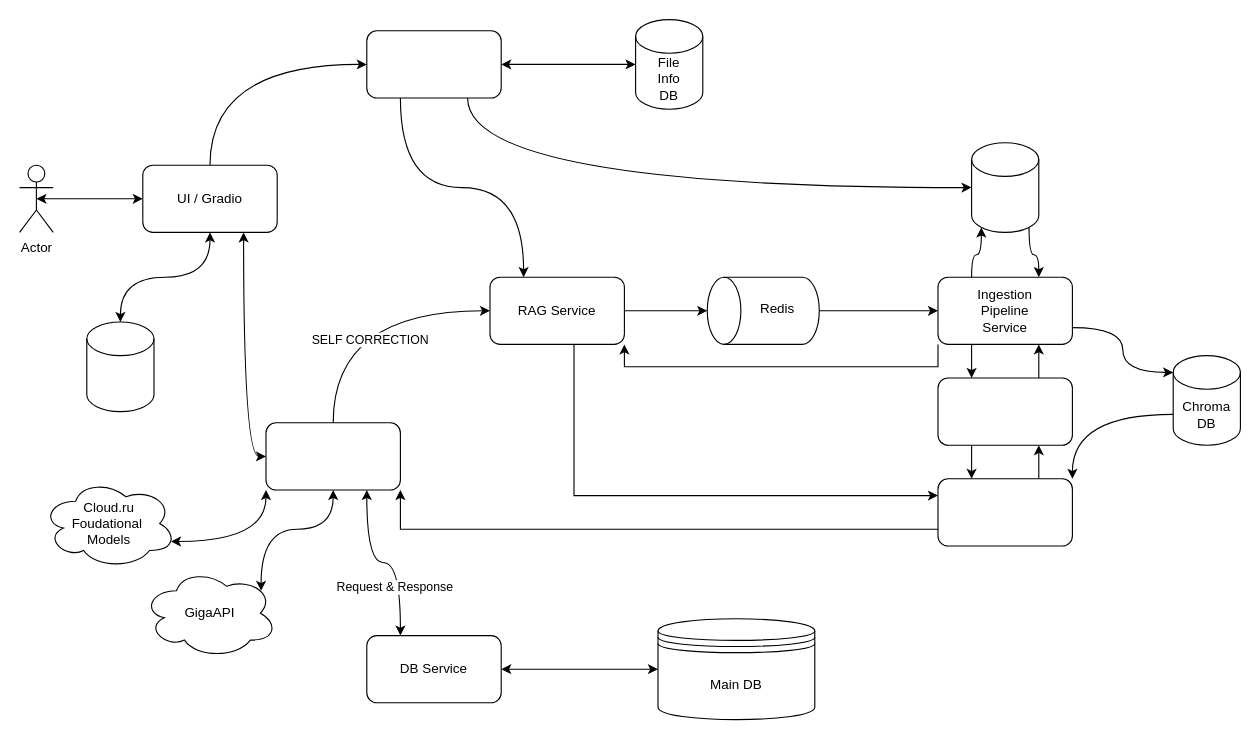
This 1260x739 diagram has some shape labels left out. Here are the shapes that lost their labels. From the top down, the centre of each, then its label:
the point at 433,64: File Service
the point at 1004,187: Minio DB
the point at 120,366: Chat DB
the point at 1004,411: Embedding Model Service
the point at 332,456: Graph Agents Service
the point at 1004,512: Retrieval Pipeline Service
